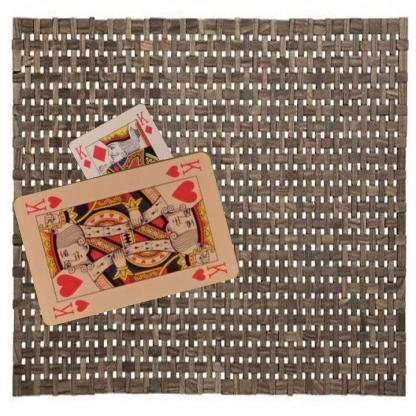Kd: (72, 142, 92, 170)
Kh: (50, 296, 91, 320), (163, 156, 203, 179)
